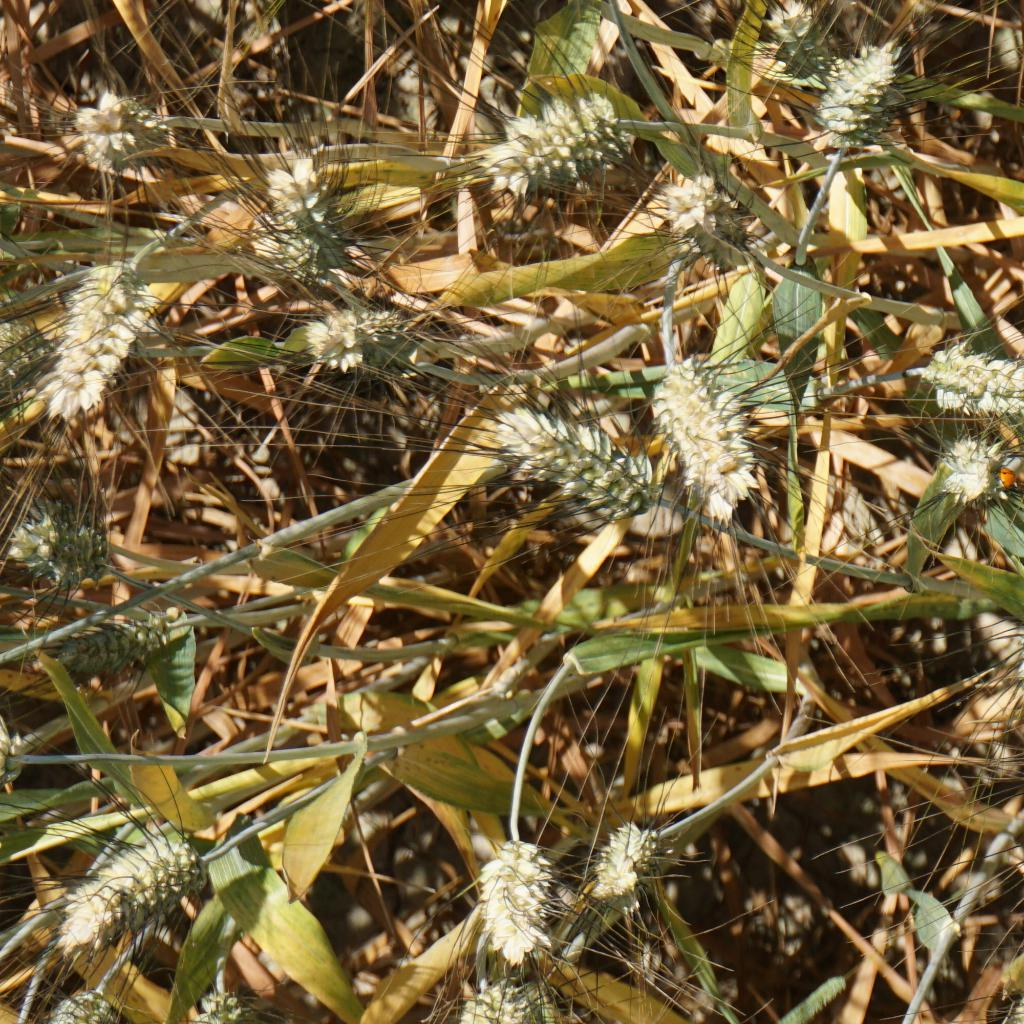0-0: (468, 384, 651, 518), (34, 248, 158, 428), (632, 342, 758, 498), (470, 82, 634, 199), (249, 148, 367, 283), (70, 823, 195, 949), (466, 830, 565, 953), (52, 604, 185, 687), (813, 37, 907, 151), (305, 295, 431, 377), (69, 84, 174, 178), (907, 342, 1024, 421), (659, 167, 752, 260), (0, 494, 118, 567), (588, 811, 661, 911), (450, 968, 570, 1024), (939, 411, 1010, 504), (761, 0, 819, 55)
